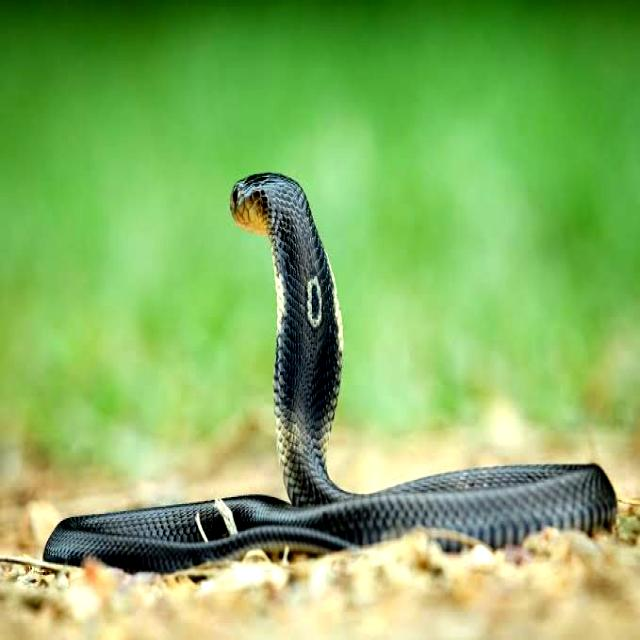Naja kaouthia: (44, 175, 616, 572)
snake: (44, 175, 616, 572)
